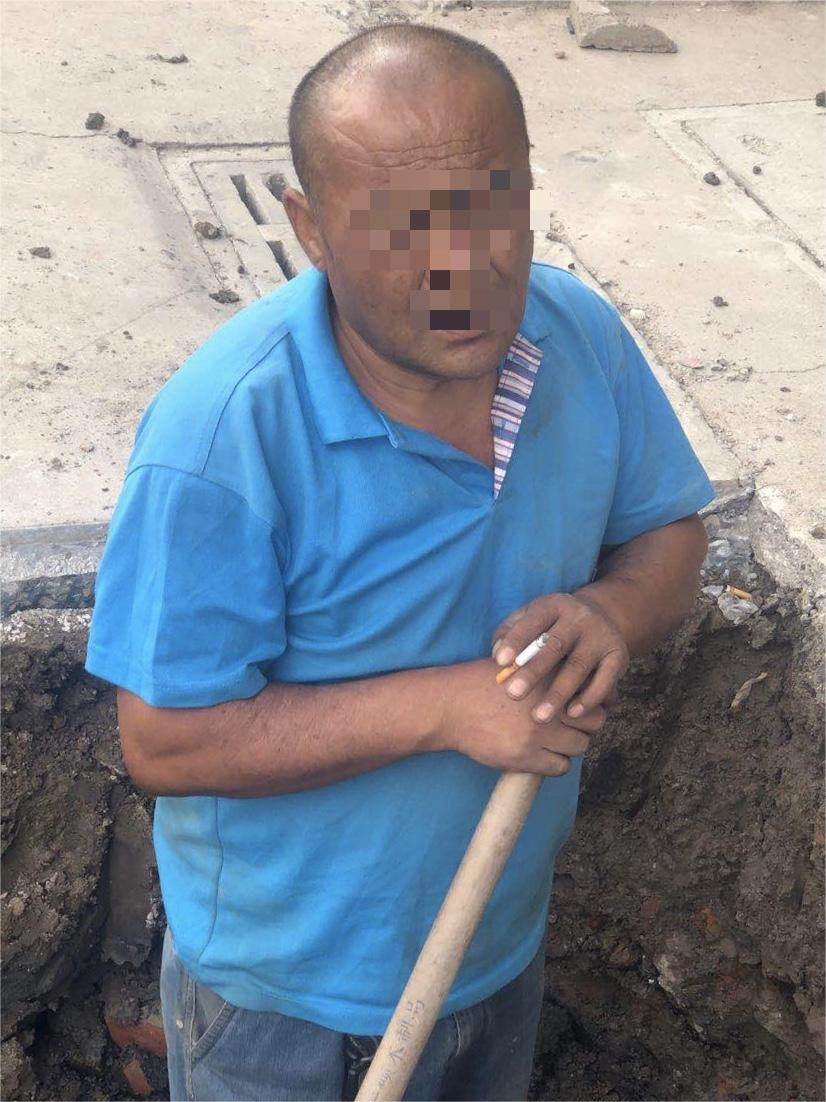smoke: (491, 627, 556, 688)
